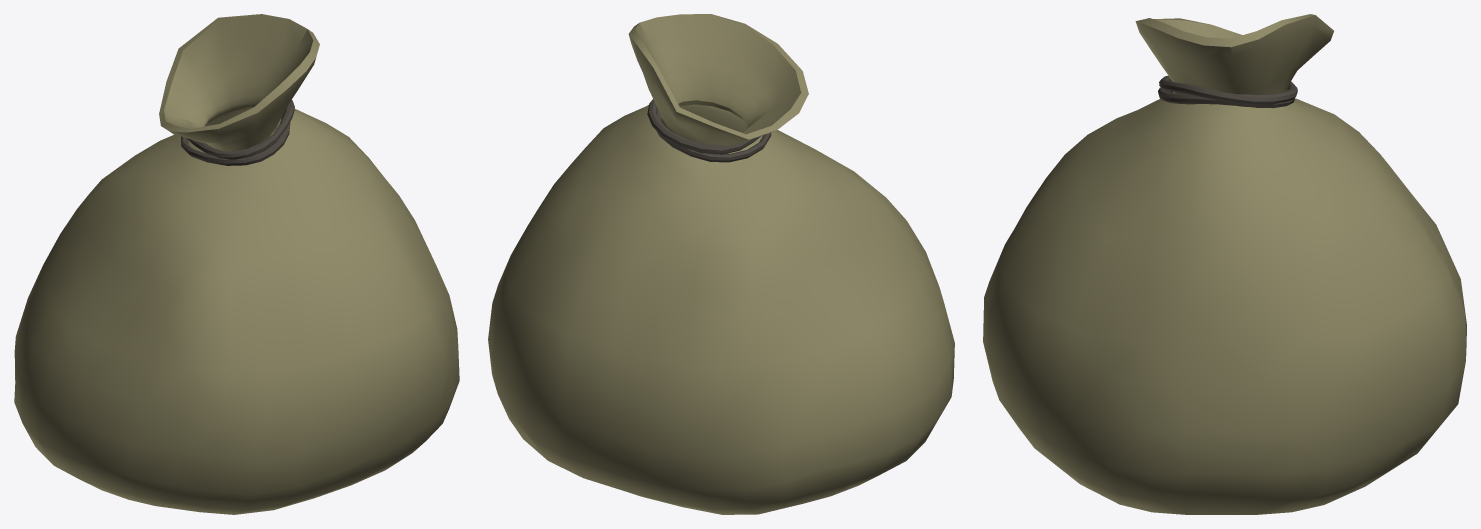
The model's file is sacco_soldi_vuoto_01.fbx.
The picture shows the model from 3 angles, left to right: view 1: azimuth 30°, elevation 25°; view 2: azimuth 150°, elevation 25°; view 3: azimuth 270°, elevation 25°; orthographic projection. The views are drawn at different scales.
Visible parts, largest first — view 1: MSH_sacco_soldi_vuoto_01; view 2: MSH_sacco_soldi_vuoto_01; view 3: MSH_sacco_soldi_vuoto_01.
Part boxes in pixels (x1,y1,x2,y2): MSH_sacco_soldi_vuoto_01: (14,14,459,514); MSH_sacco_soldi_vuoto_01: (488,14,954,514); MSH_sacco_soldi_vuoto_01: (983,14,1466,514).
Size of the model in its own units: 7.48 by 7.4 by 7.19.
